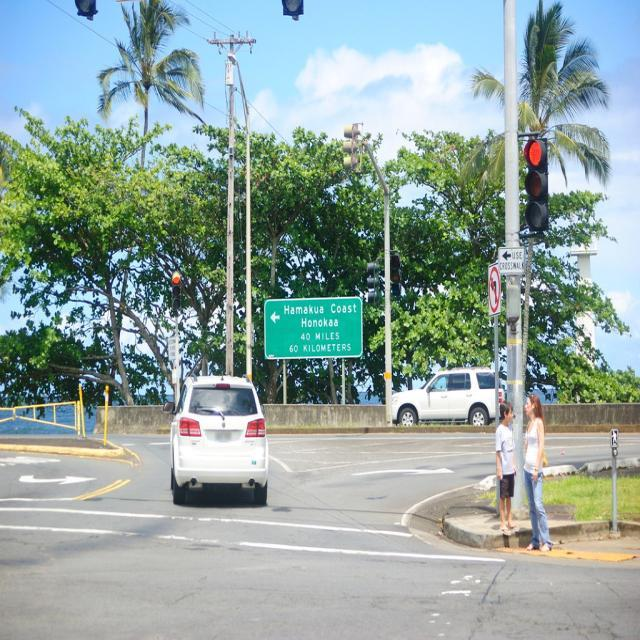traffic light: (526, 139, 551, 230)
